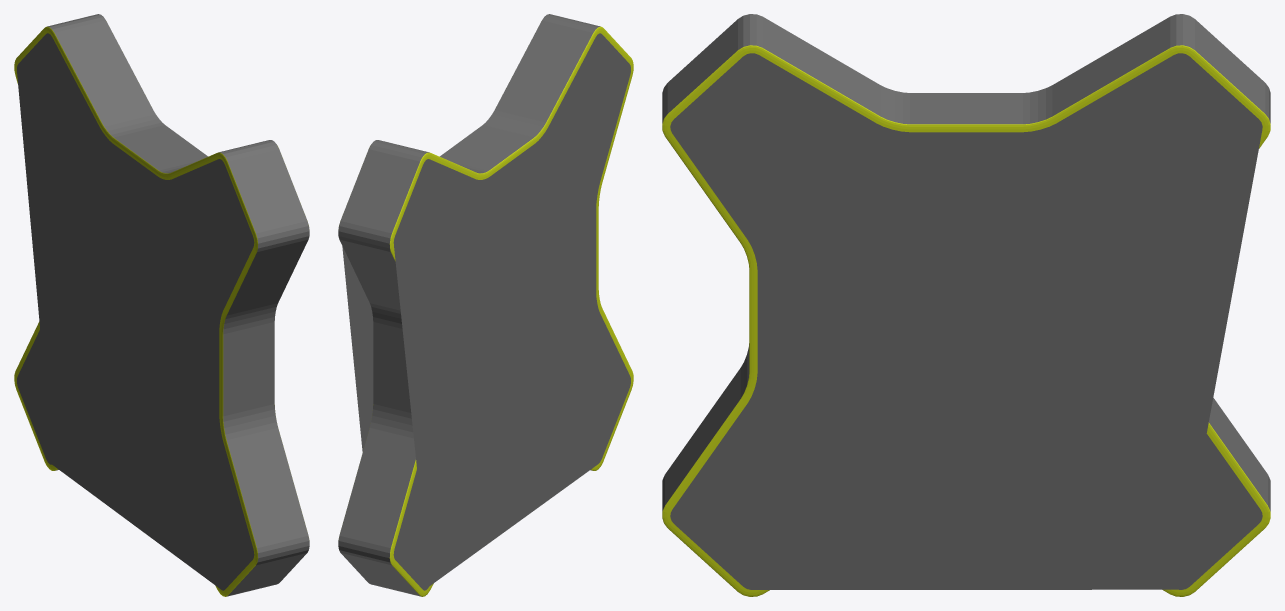
File: Warning Sign.fbx
3 renders of one model, left to right at view 1: azimuth 30°, elevation 25°; view 2: azimuth 150°, elevation 25°; view 3: azimuth 270°, elevation 25°, orthographic. The views are drawn at different scales.
Parts seen in each view (by area): view 1: Cube; view 2: Cube; view 3: Cube.
Part boxes in pixels (x1=…): Cube: x1=14, y1=14, x2=309, y2=596; Cube: x1=338, y1=14, x2=633, y2=596; Cube: x1=662, y1=14, x2=1270, y2=596.
Size of the model in its own units: 24.58 by 196 by 196.
